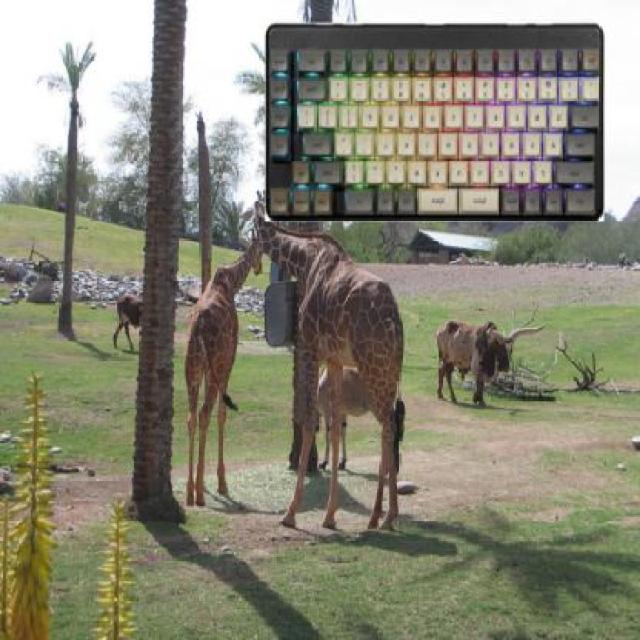keyboard: (267, 21, 595, 218)
